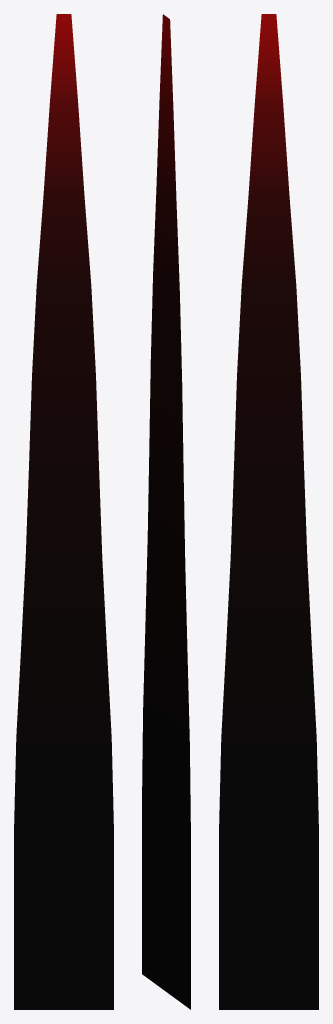
Rendered from SM_KingMarker.fbx.
3 views of the same model, side by side, from view 1: azimuth 90°, elevation 25°; view 2: azimuth 210°, elevation 25°; view 3: azimuth 270°, elevation 25° (orthographic). The views are drawn at different scales.
Parts seen in each view (by area): view 1: SM_KingMarker; view 2: SM_KingMarker; view 3: SM_KingMarker.
Boxes of the visible parts, left/top/right/bottom form: SM_KingMarker: left=14, top=14, right=113, bottom=1009; SM_KingMarker: left=142, top=14, right=190, bottom=1009; SM_KingMarker: left=219, top=14, right=318, bottom=1009.
Size of the model in its own units: 2.44e-13 by 11000 by 1000.
